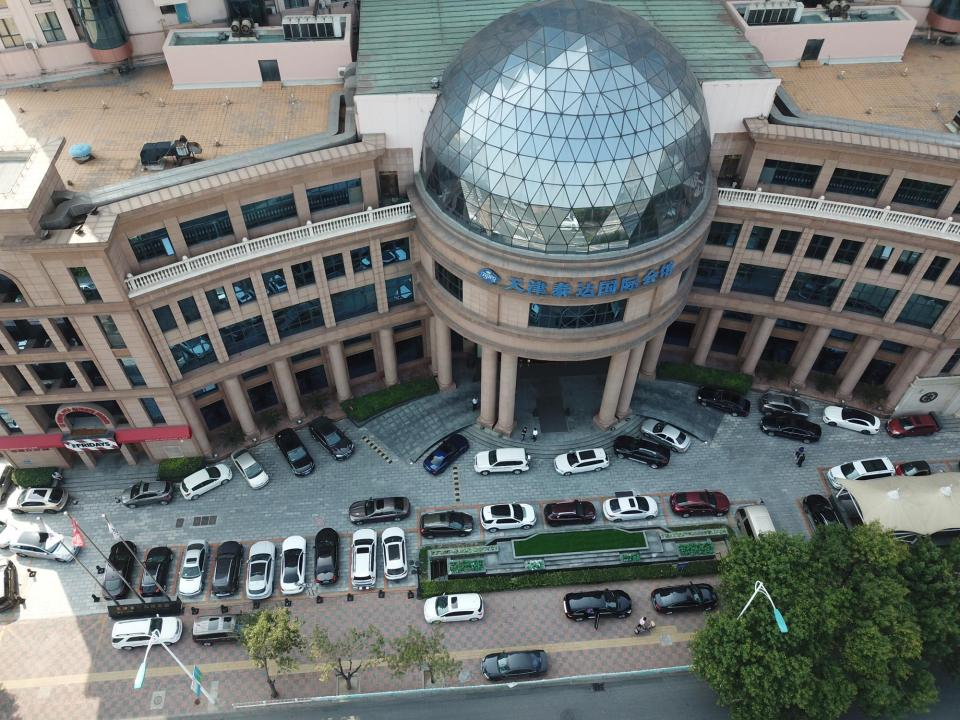car: (563, 588, 632, 630), (112, 614, 183, 650), (192, 610, 262, 646), (828, 456, 895, 490), (9, 530, 80, 562), (802, 494, 841, 550), (651, 582, 717, 615), (308, 415, 355, 461), (481, 649, 548, 681), (101, 541, 136, 601), (423, 432, 469, 476), (275, 428, 315, 477), (423, 592, 484, 624), (180, 463, 232, 500), (668, 488, 730, 518), (822, 404, 880, 436), (246, 540, 278, 598), (348, 496, 409, 526), (669, 489, 730, 518), (480, 501, 536, 532), (179, 540, 210, 596), (640, 418, 691, 452), (760, 415, 821, 443), (7, 486, 68, 514), (212, 541, 243, 596), (230, 447, 270, 489), (350, 528, 377, 590), (698, 385, 750, 417), (140, 546, 172, 598), (603, 492, 658, 522), (473, 447, 530, 475), (554, 448, 610, 476), (313, 528, 340, 586), (122, 480, 175, 509), (280, 536, 306, 594), (420, 510, 473, 538), (759, 393, 810, 422), (381, 527, 408, 581), (886, 412, 938, 440), (544, 499, 596, 527), (892, 459, 930, 484), (0, 557, 17, 610)
truck: (735, 505, 777, 570)
